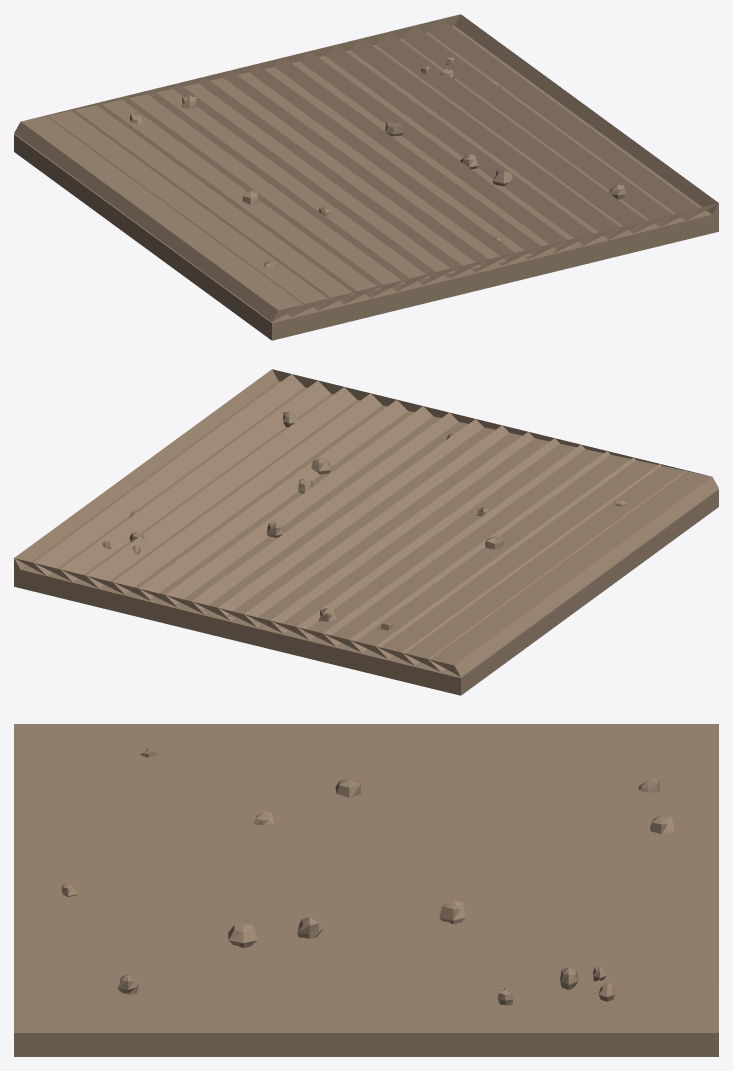
The model's file is arable-fields-and-farm-machinery-field-tile-ploughed-20bd5f25__16871.glb.
The picture shows the model from 3 angles, top to bottom: view 1: azimuth 30°, elevation 25°; view 2: azimuth 150°, elevation 25°; view 3: azimuth 270°, elevation 25°; orthographic projection. The views are drawn at different scales.
Visible parts, largest first — view 1: field-tile-ploughed; view 2: field-tile-ploughed; view 3: field-tile-ploughed.
Part boxes in pixels (x1=…): field-tile-ploughed: x1=14, y1=14, x2=718, y2=340; field-tile-ploughed: x1=14, y1=369, x2=718, y2=695; field-tile-ploughed: x1=14, y1=724, x2=718, y2=1056.
Bounding box in the file's own units: 8 × 0.627 × 8.
